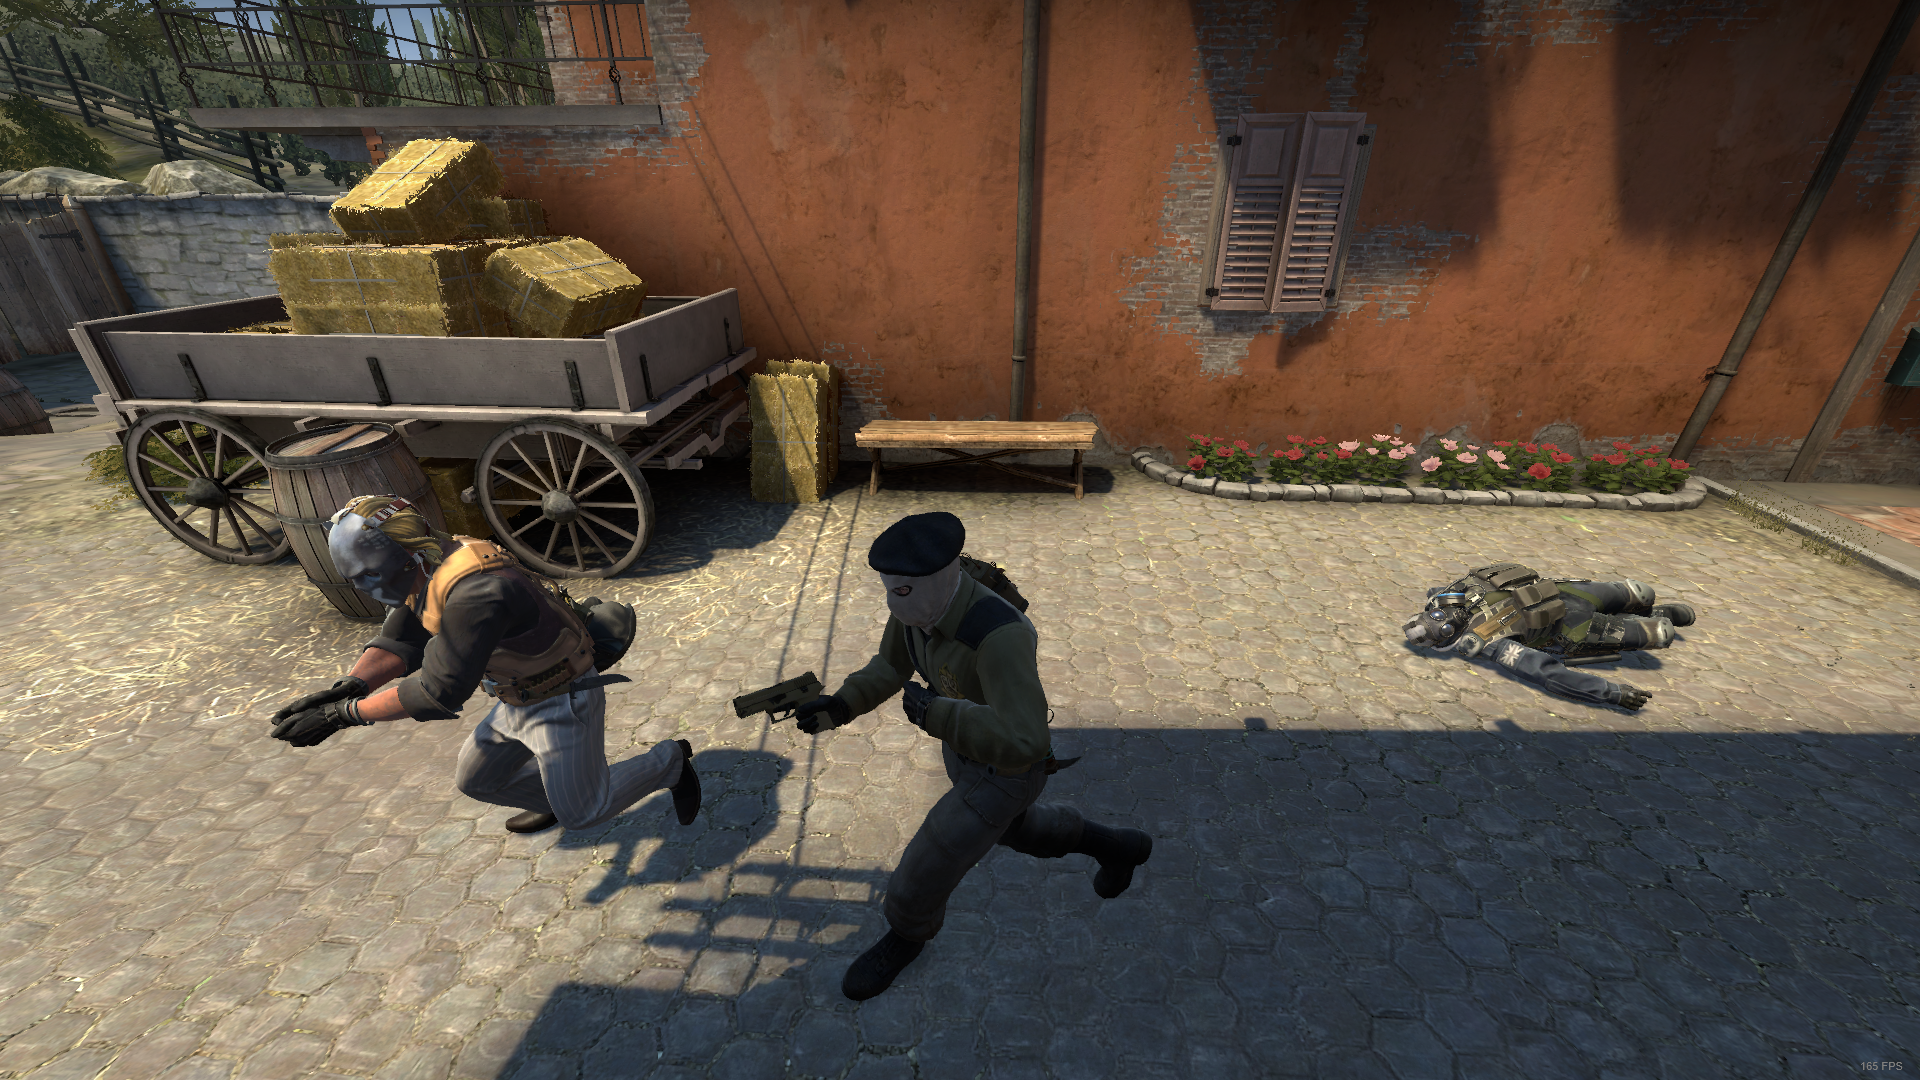t: (798, 513, 1153, 1004)
